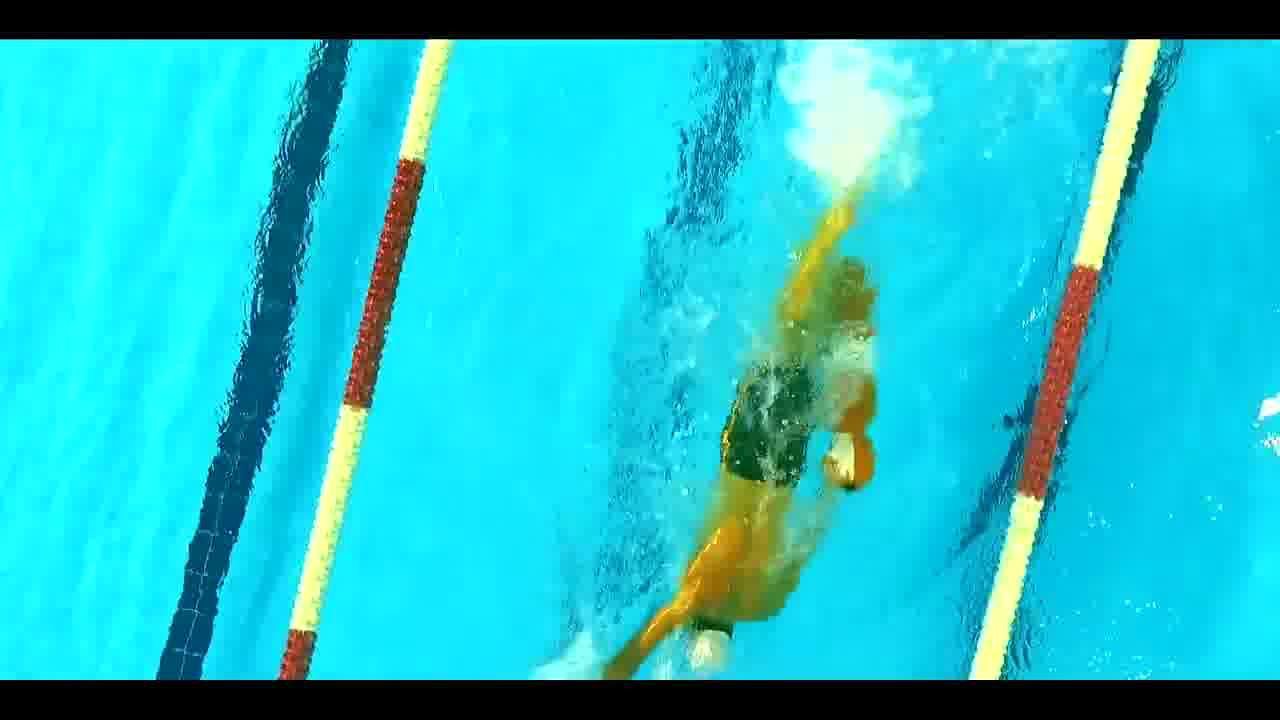swimmer: (608, 188, 891, 673)
